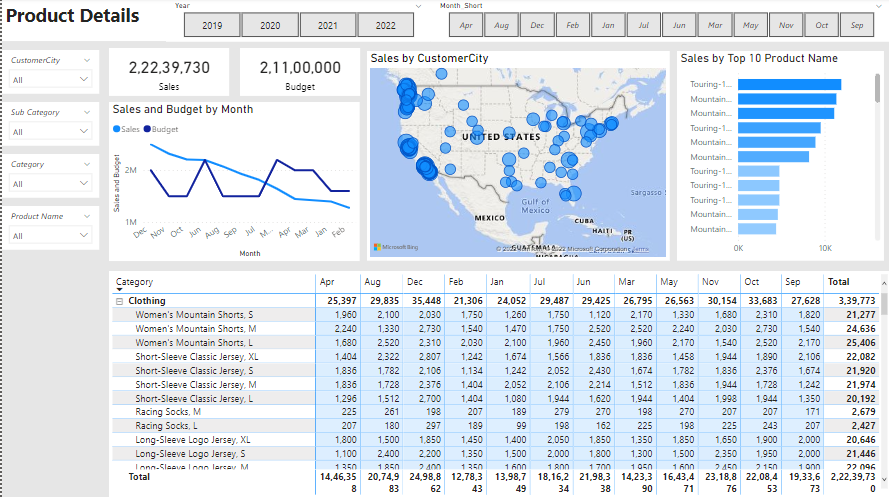

Layout of this report page (visuals, bound fields, positions):
{"tool":"powerbi","page":{"name":"Product Details","canvas":[1280,720],"ordinal":2},"visuals":[{"type":"textbox","box":[0,0,1280.2,61.9],"z":0},{"type":"slicer","fields":{"Values":["DIM_Customer.CustomerCity"]},"box":[0,75,140,62.5],"z":1000},{"type":"slicer","fields":{"Values":["DIM_Product.Sub Category"]},"box":[0,150,140,62.5],"z":2000},{"type":"slicer","fields":{"Values":["DIM_Product.Product Category"]},"box":[0,225,140,62.5],"z":3000},{"type":"slicer","fields":{"Values":["DIM_Product.ProductName"]},"box":[0,300,140,62.5],"z":4000},{"type":"slicer","fields":{"Values":["DIM_Calendar.Year"]},"box":[236.2,0,381.2,62.5],"z":5000},{"type":"slicer","fields":{"Values":["DIM_Calendar.Month_Short"]},"box":[617.5,0,662.5,62.5],"z":6000},{"type":"barChart","title":"Sales by Top 10 Product Name","fields":{"Y":["Key Measures.Sales"],"Category":["DIM_Product.ProductName"]},"box":[972,76.3,298.1,302.4],"z":7000},{"type":"pivotTable","fields":{"Rows":["DIM_Product.Product Category","DIM_Product.ProductName"],"Values":["Key Measures.Sales"],"Columns":["DIM_Calendar.Month_Short"]},"box":[154.1,393.1,1126.1,326.9],"z":8000},{"type":"map","fields":{"Category":["DIM_Customer.CustomerCity"],"Size":["Key Measures.Sales"]},"box":[525.6,76.3,436.3,302.4],"z":9000},{"type":"lineChart","fields":{"Category":["DIM_Calendar.Month_Short"],"Y":["Key Measures.Sales","Key Measures.Budget Amount"]},"box":[154.1,149.8,361.4,229],"z":10000},{"type":"card","fields":{"Values":["Key Measures.Sales"]},"box":[154.1,72,172.8,69.1],"z":11000},{"type":"card","fields":{"Values":["Key Measures.Budget Amount"]},"box":[342.7,72,172.8,69.1],"z":12000}]}

Visuals, with their boxes in screenshot pixels (x1, y1, x2, y2), scaled from the page's 1280x720 canvas onto the 889x497 screenshot:
textbox: x1=0, y1=0, x2=888, y2=43
slicer - DIM_Customer.CustomerCity: x1=0, y1=52, x2=97, y2=95
slicer - DIM_Product.Sub Category: x1=0, y1=104, x2=97, y2=147
slicer - DIM_Product.Product Category: x1=0, y1=155, x2=97, y2=198
slicer - DIM_Product.ProductName: x1=0, y1=207, x2=97, y2=250
slicer - DIM_Calendar.Year: x1=164, y1=0, x2=429, y2=43
slicer - DIM_Calendar.Month_Short: x1=429, y1=0, x2=888, y2=43
"Sales by Top 10 Product Name" barChart: x1=675, y1=53, x2=882, y2=261
pivotTable - DIM_Product.Product Category x DIM_Product.ProductName: x1=107, y1=271, x2=888, y2=496
map - DIM_Customer.CustomerCity x Key Measures.Sales: x1=365, y1=53, x2=668, y2=261
lineChart - DIM_Calendar.Month_Short x Key Measures.Sales: x1=107, y1=103, x2=358, y2=261
card - Key Measures.Sales: x1=107, y1=50, x2=227, y2=97
card - Key Measures.Budget Amount: x1=238, y1=50, x2=358, y2=97
